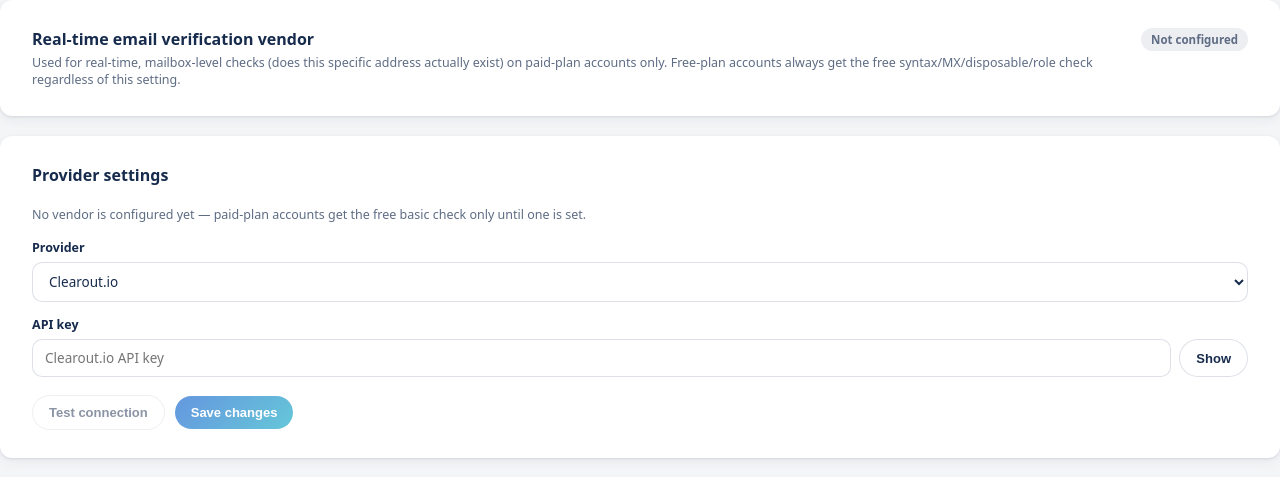
Scenario: EmailValidationConfigPage › shows the test-connection failure detail from the API
Check: the text "Not configured" is shown, box [1141,28,1248,51]
Type "co-bad-key" into the password field labelled "API key" at [602, 358], box [32,339,1171,377]
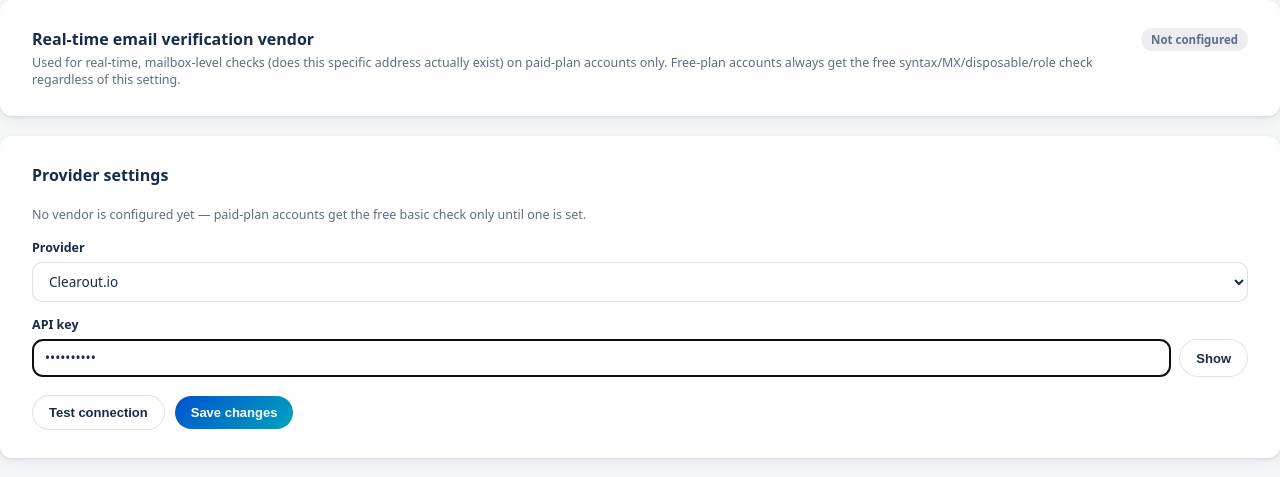
Click the button "Test connection" at [98, 412], box [32,395,165,430]
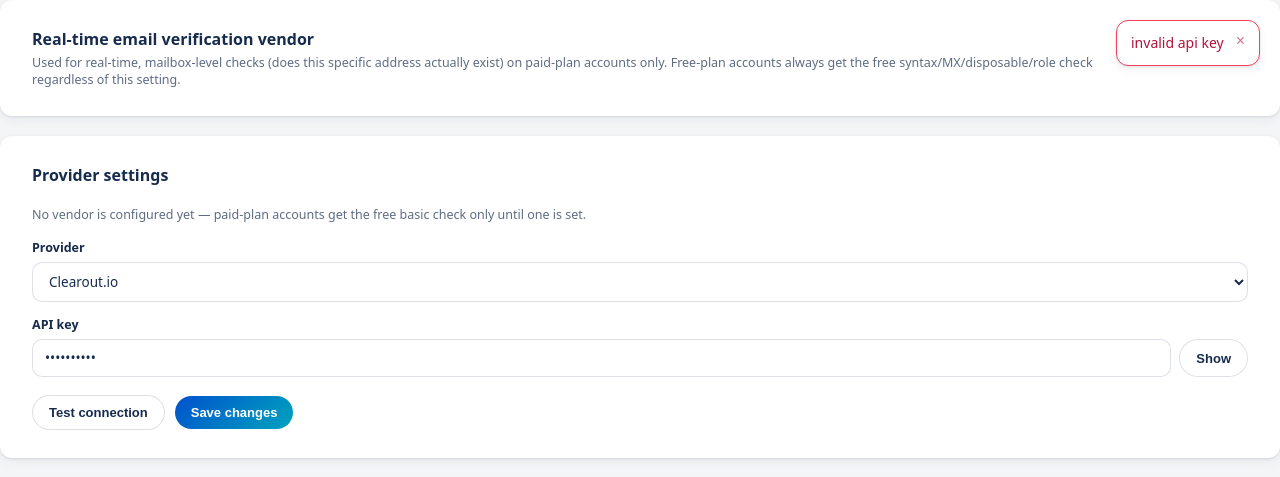
Check: the text "invalid api key" is shown, box [1131,33,1224,53]
